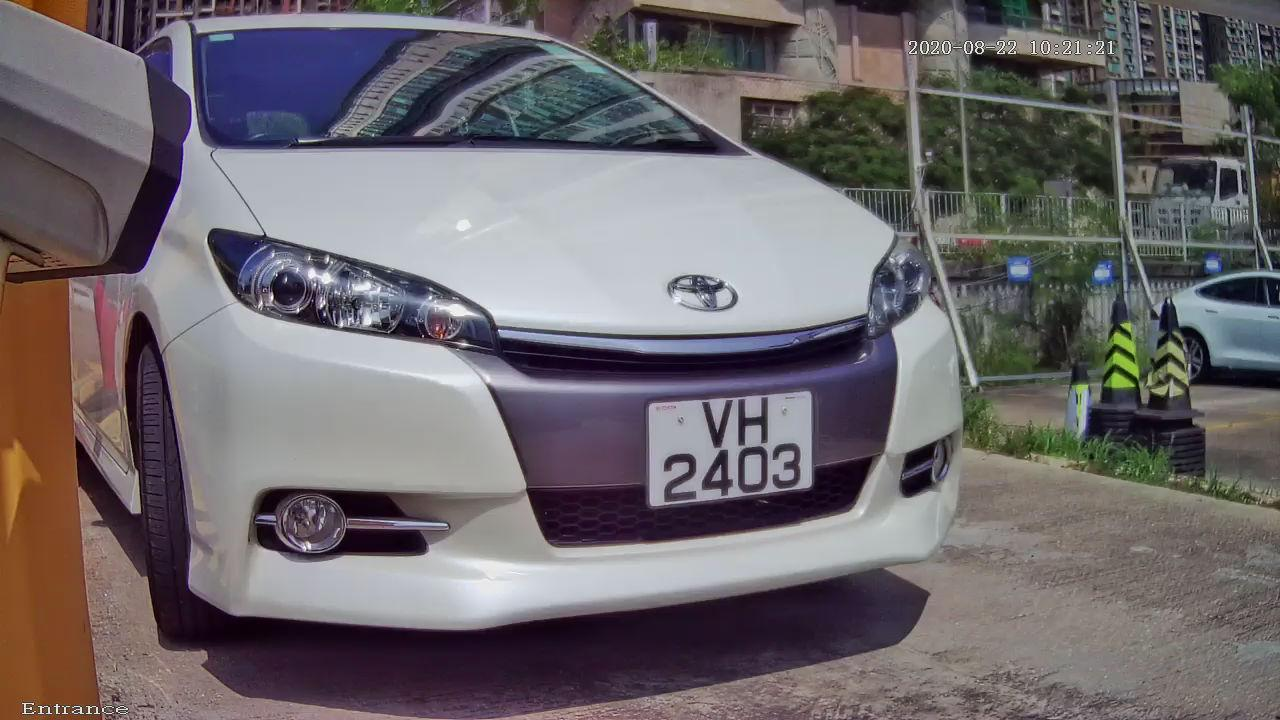License Plate: (640, 370, 823, 524)
